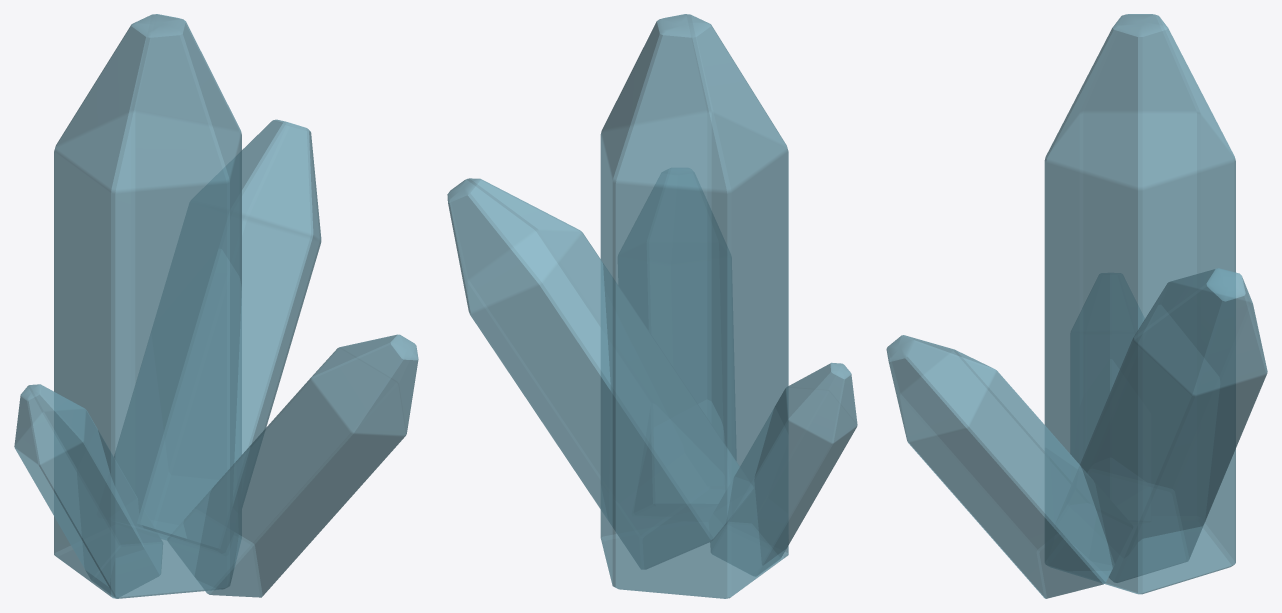
File: Crystal.fbx
The picture shows the model from 3 angles, left to right: view 1: azimuth 30°, elevation 25°; view 2: azimuth 150°, elevation 25°; view 3: azimuth 270°, elevation 25°; orthographic projection.
Visible parts, largest first — view 1: Crystal; view 2: Crystal; view 3: Crystal.
Part boxes in pixels (x1,y1,x2,y2): Crystal: (14, 14, 418, 598); Crystal: (447, 14, 857, 598); Crystal: (886, 14, 1267, 598).
Size of the model in its own units: 1.1 by 1.68 by 1.06.
